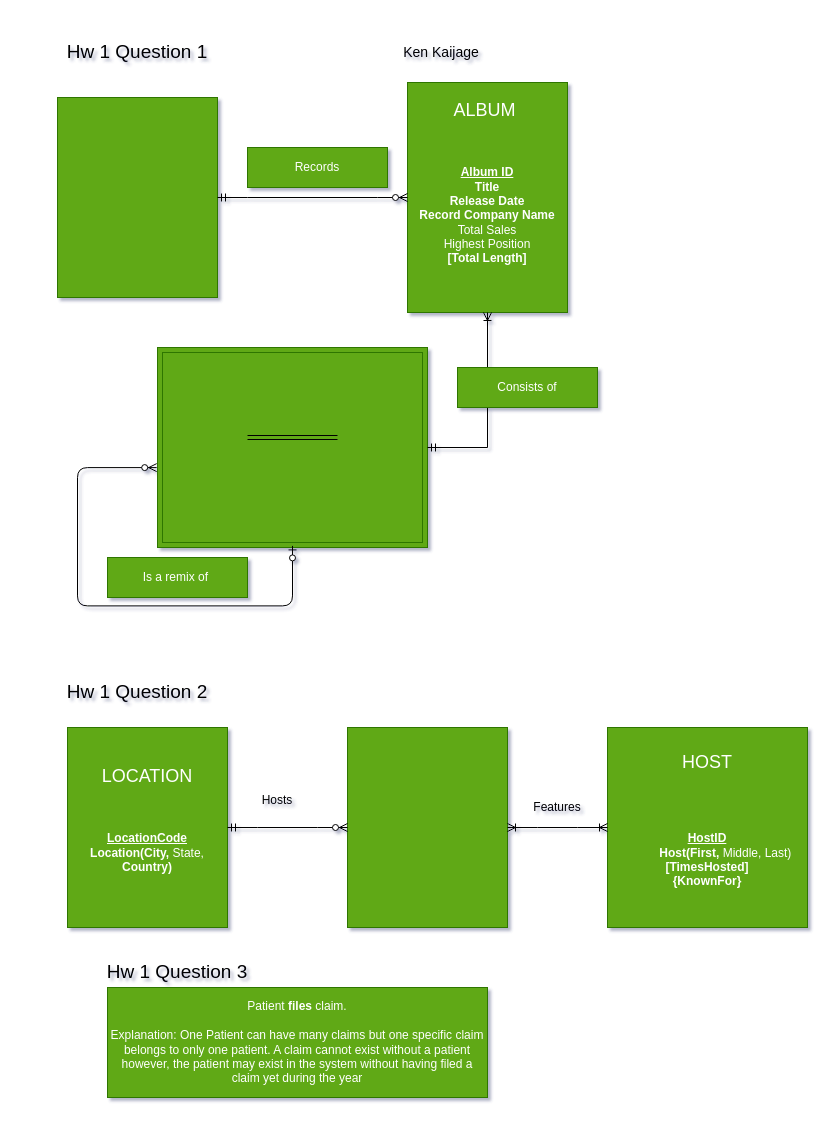
Image size: 831x1121. Some labels were removed from this diagram. Each missing label, with the centre of its shape:
"BAND Unique Band Code Name Year Country {Genre}" belongs at point 137,197.
"CEREMONY CeremonyID Date Network Viewers" belongs at point 427,827.
"TRACK Track Number Title Duration(Minutes, Seconds)" belongs at point 292,447.
